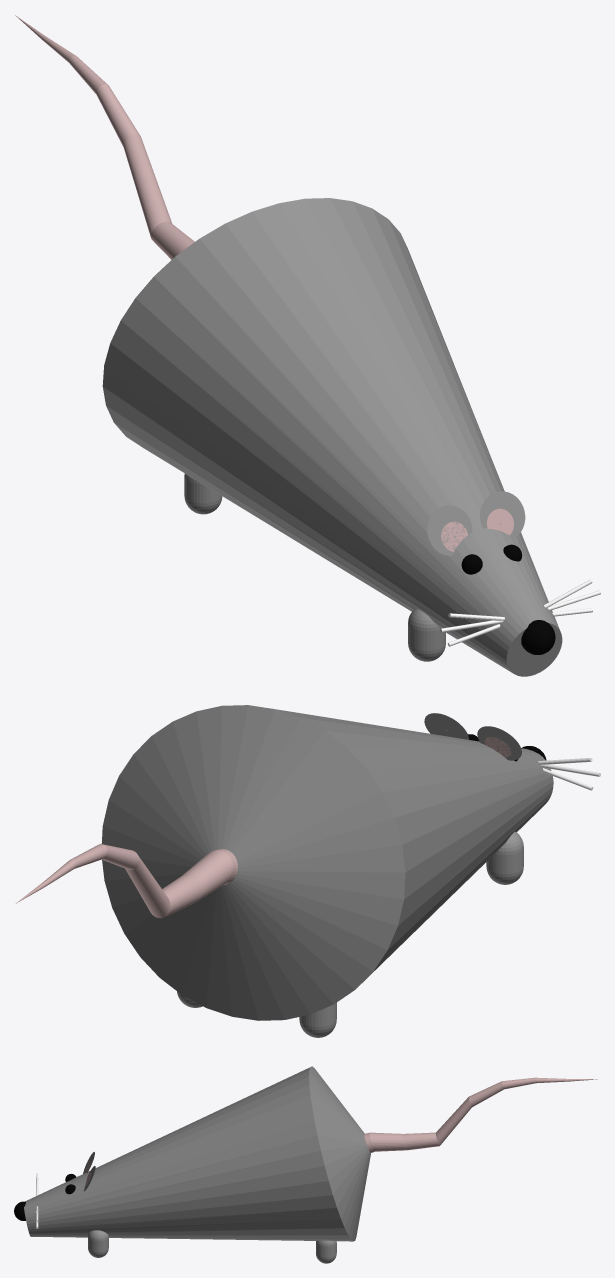
The model's file is mouse.fbx.
The picture shows the model from 3 angles, top to bottom: view 1: azimuth 30°, elevation 25°; view 2: azimuth 150°, elevation 25°; view 3: azimuth 270°, elevation 25°; orthographic projection. The views are drawn at different scales.
Visible parts, largest first — view 1: Cylinder, Cone, Capsule, Disc_1, Disc, Capsule_3, Sphere_1; view 2: Cylinder, Cone, Capsule, Capsule_3, Disc, Disc_1; view 3: Cylinder, Cone, Capsule_1, Capsule_2.
Part boxes in pixels (x1=…): Cylinder: x1=102, y1=198, x2=562, y2=676; Cone: x1=15, y1=15, x2=194, y2=259; Capsule: x1=408, y1=609, x2=445, y2=661; Disc_1: x1=427, y1=505, x2=472, y2=555; Disc: x1=480, y1=491, x2=525, y2=538; Capsule_3: x1=184, y1=473, x2=222, y2=514; Sphere_1: x1=521, y1=620, x2=555, y2=654; Cylinder: x1=101, y1=705, x2=553, y2=1020; Cone: x1=15, y1=844, x2=237, y2=918; Capsule: x1=486, y1=831, x2=523, y2=884; Capsule_3: x1=299, y1=1002, x2=336, y2=1037; Disc: x1=424, y1=713, x2=468, y2=739; Disc_1: x1=477, y1=726, x2=521, y2=760; Cylinder: x1=24, y1=1066, x2=370, y2=1241; Cone: x1=364, y1=1077, x2=597, y2=1152; Capsule_1: x1=88, y1=1230, x2=108, y2=1257; Capsule_2: x1=316, y1=1240, x2=336, y2=1263.
Bounding box in the file's own units: 85.71 × 81.91 × 258.
